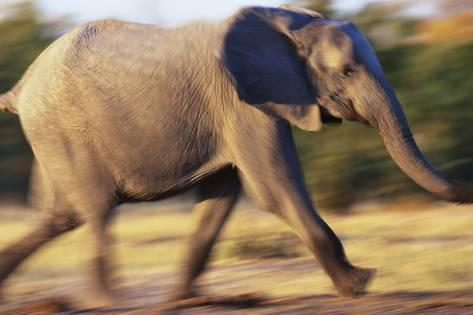elephant: (1, 10, 460, 306)
